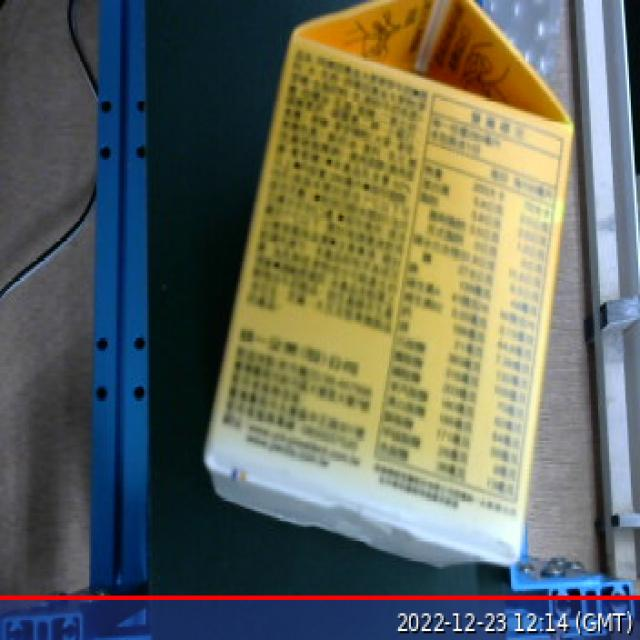non_white_jug: (187, 0, 584, 606)
